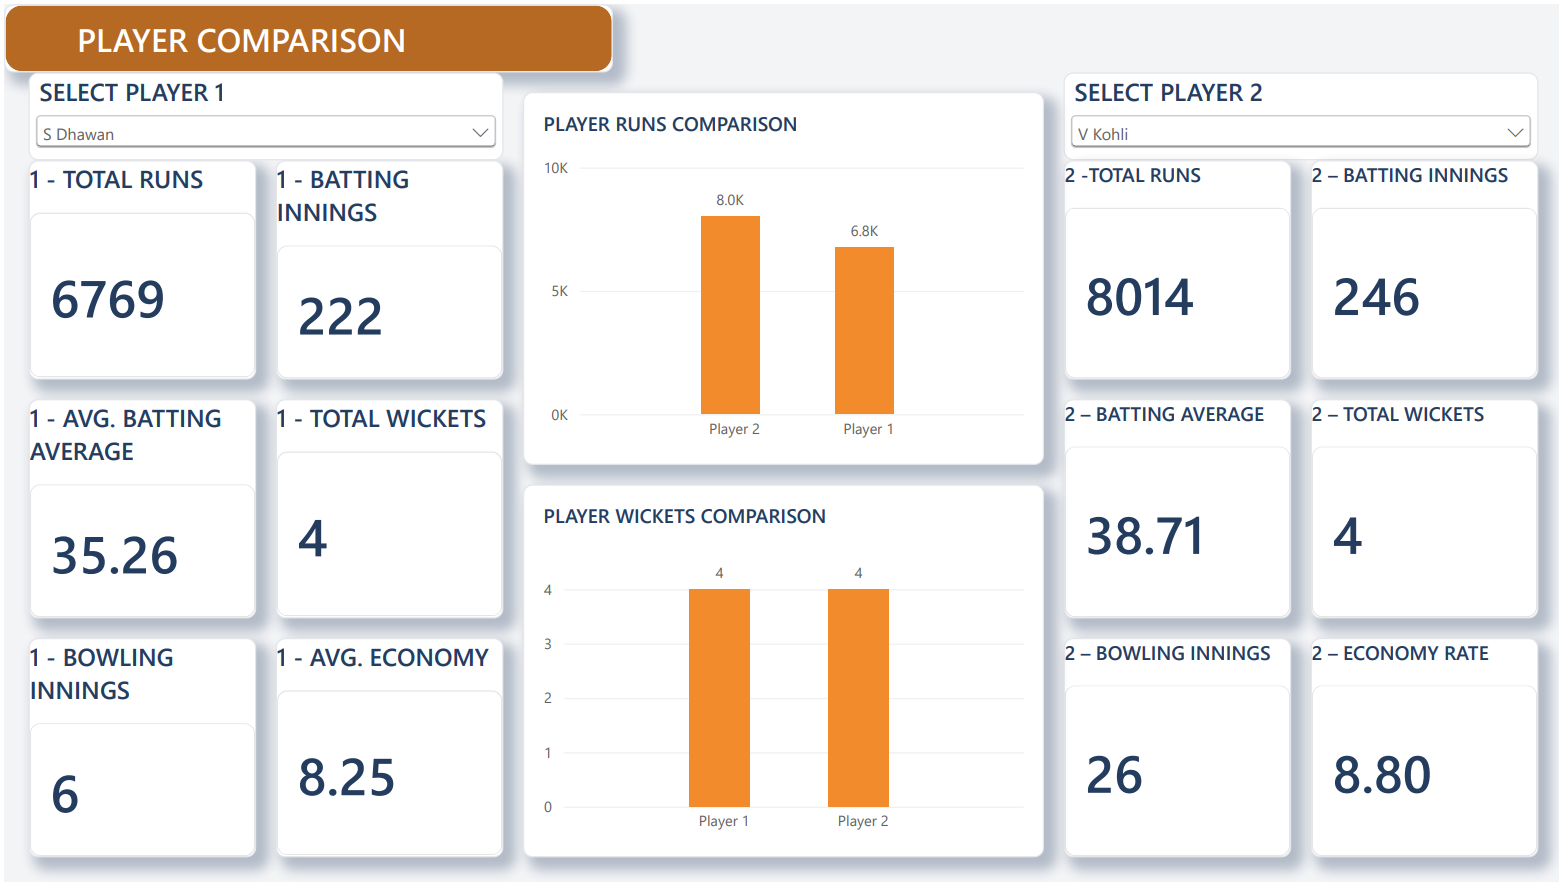

The page's visual inventory and layout, read from the dashboard file:
{"tool":"powerbi","page":{"name":"Player Comparison","canvas":[1280,720],"ordinal":3},"visuals":[{"type":"shape","box":[0,0,500,56],"z":0},{"type":"cardVisual","title":"1 - TOTAL RUNS","fields":{"Data":["Sum(VW_PLAYER_COMPARISON.RUNS)"]},"box":[20,128,187,180],"z":1},{"type":"cardVisual","title":"1 - BATTING INNINGS","fields":{"Data":["Sum(VW_PLAYER_COMPARISON.BATTING_INNINGS)"]},"box":[223,128,187,180],"z":2},{"type":"cardVisual","title":"1 - AVG. BATTING AVERAGE","fields":{"Data":["Avg(VW_PLAYER_COMPARISON.BATTING_AVERAGE)"]},"box":[20,324,187,180],"z":3},{"type":"cardVisual","title":"1 - TOTAL WICKETS","fields":{"Data":["Sum(VW_PLAYER_COMPARISON.WICKETS)"]},"box":[223,324,187,180],"z":4},{"type":"cardVisual","title":"1 - BOWLING INNINGS","fields":{"Data":["Sum(VW_PLAYER_COMPARISON.BOWLING_INNINGS)"]},"box":[20,520,187,180],"z":5},{"type":"cardVisual","title":"1 - AVG. ECONOMY","fields":{"Data":["Avg(VW_PLAYER_COMPARISON.ECONOMY)"]},"box":[223,520,187,180],"z":6},{"type":"slicer","fields":{"Values":["VW_DIM_PLAYER.PLAYER_NAME"]},"box":[20,56.2,390,71.2],"z":7},{"type":"slicer","fields":{"Values":["DIM_PLAYER2.PLAYER_NAME"]},"box":[870,56.2,390,71.2],"z":8},{"type":"cardVisual","title":"2 -TOTAL RUNS","fields":{"Data":["Sum(PLAYER2_COMPARISON.RUNS)"]},"box":[870,128,187,180],"z":9},{"type":"cardVisual","title":"2 – BATTING INNINGS","fields":{"Data":["Sum(PLAYER2_COMPARISON.BATTING_INNINGS)"]},"box":[1073,128,187,180],"z":10},{"type":"cardVisual","title":"2 – BATTING AVERAGE","fields":{"Data":["Avg(PLAYER2_COMPARISON.BATTING_AVERAGE)"]},"box":[870,324,187,180],"z":11},{"type":"cardVisual","title":"2 – TOTAL WICKETS","fields":{"Data":["Sum(PLAYER2_COMPARISON.WICKETS)"]},"box":[1073,324,187,180],"z":12},{"type":"cardVisual","title":"2 – BOWLING INNINGS","fields":{"Data":["Sum(PLAYER2_COMPARISON.BOWLING_INNINGS)"]},"box":[870,520,187,180],"z":13},{"type":"cardVisual","title":"2 – ECONOMY RATE","fields":{"Data":["Avg(PLAYER2_COMPARISON.ECONOMY)"]},"box":[1073,520,187,180],"z":14},{"type":"clusteredColumnChart","title":"PLAYER RUNS COMPARISON","fields":{"Category":["ComparisonAxis.PLAYER"],"Y":["VW_PLAYER_COMPARISON.Runs Comparison"]},"box":[426,72,428,306],"z":15},{"type":"clusteredColumnChart","title":"PLAYER WICKETS COMPARISON","fields":{"Category":["ComparisonAxis.PLAYER"],"Y":["ComparisonAxis.Wickets Comparison"]},"box":[426,394,428,306],"z":16},{"type":"textbox","box":[60,10,500,36],"z":17}]}

Visuals, with their boxes in screenshot pixels (x1, y1, x2, y2), scaled from the page's 1280x720 canvas onto the 1559x890 screenshot:
shape: (0, 0, 609, 69)
"1 - TOTAL RUNS" cardVisual: (24, 158, 252, 381)
"1 - BATTING INNINGS" cardVisual: (272, 158, 499, 381)
"1 - AVG. BATTING AVERAGE" cardVisual: (24, 400, 252, 623)
"1 - TOTAL WICKETS" cardVisual: (272, 400, 499, 623)
"1 - BOWLING INNINGS" cardVisual: (24, 643, 252, 865)
"1 - AVG. ECONOMY" cardVisual: (272, 643, 499, 865)
slicer - VW_DIM_PLAYER.PLAYER_NAME: (24, 69, 499, 157)
slicer - DIM_PLAYER2.PLAYER_NAME: (1060, 69, 1535, 157)
"2 -TOTAL RUNS" cardVisual: (1060, 158, 1287, 381)
"2 – BATTING INNINGS" cardVisual: (1307, 158, 1535, 381)
"2 – BATTING AVERAGE" cardVisual: (1060, 400, 1287, 623)
"2 – TOTAL WICKETS" cardVisual: (1307, 400, 1535, 623)
"2 – BOWLING INNINGS" cardVisual: (1060, 643, 1287, 865)
"2 – ECONOMY RATE" cardVisual: (1307, 643, 1535, 865)
"PLAYER RUNS COMPARISON" clusteredColumnChart: (519, 89, 1040, 467)
"PLAYER WICKETS COMPARISON" clusteredColumnChart: (519, 487, 1040, 865)
textbox: (73, 12, 682, 57)
